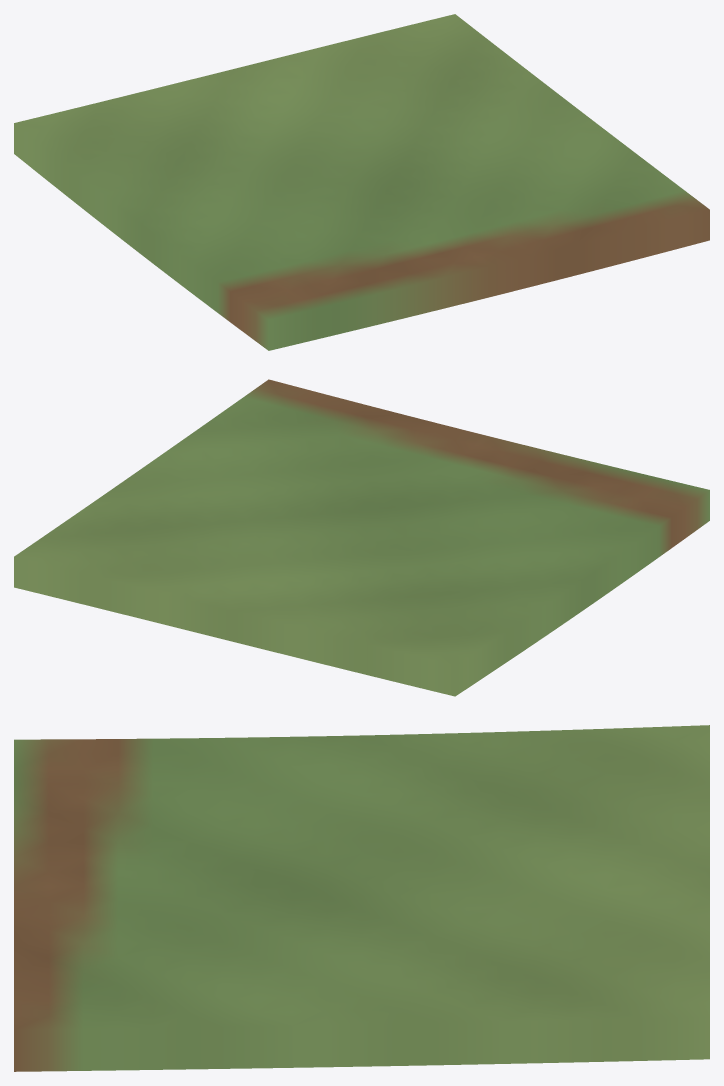
The picture shows the model from 3 angles, top to bottom: view 1: azimuth 30°, elevation 25°; view 2: azimuth 150°, elevation 25°; view 3: azimuth 270°, elevation 25°; orthographic projection. The views are drawn at different scales.
Visible parts, largest first — view 1: terrain; view 2: terrain; view 3: terrain.
Part boxes in pixels (left/top/right/bottom): terrain: left=14, top=14, right=709, bottom=350; terrain: left=14, top=379, right=709, bottom=696; terrain: left=14, top=725, right=709, bottom=1071.
Size of the model in its own units: 30 by 2.82 by 30.
